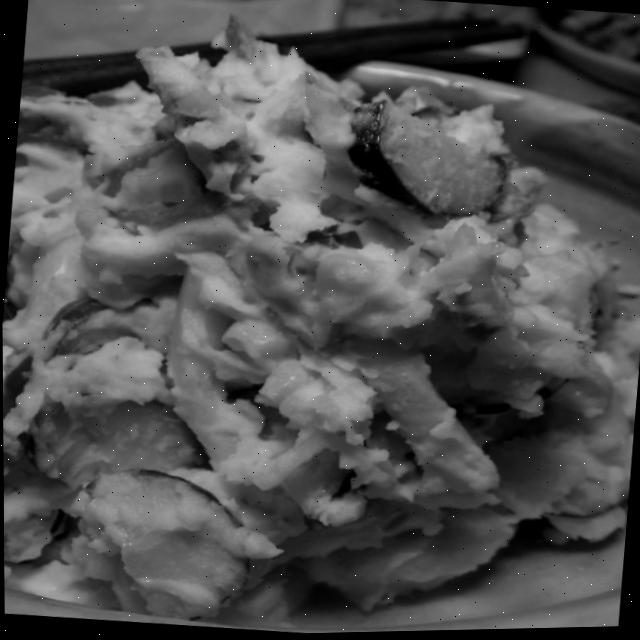蔬菜料理: (0, 3, 640, 640)
